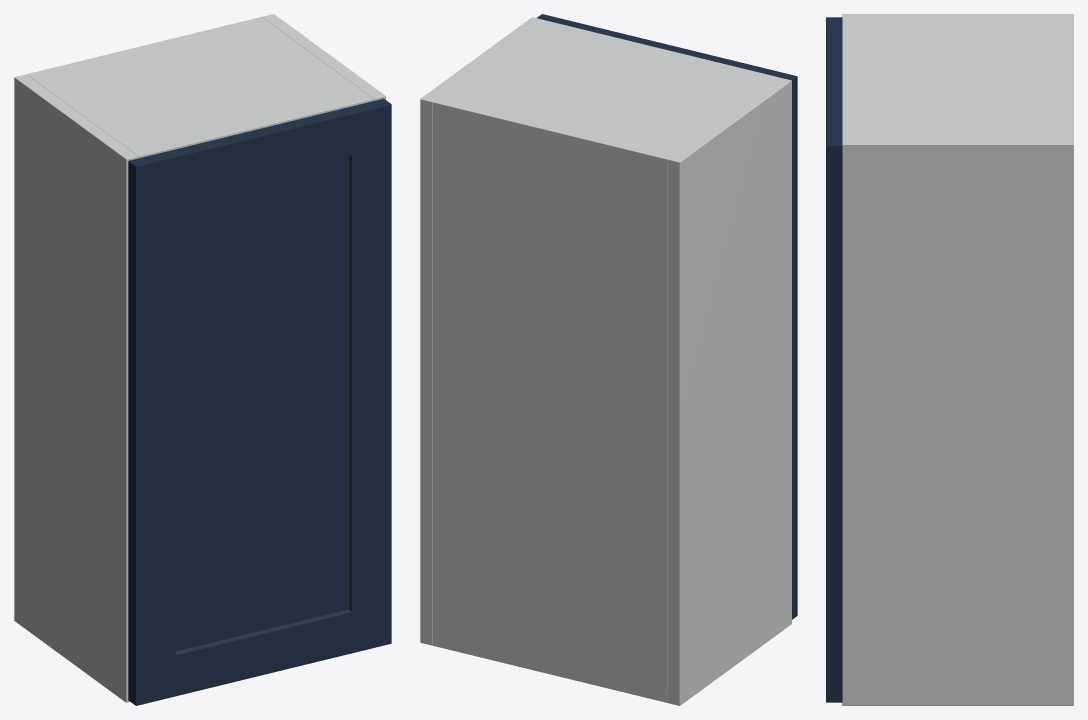
File: oppein-ply-bss-w1530.glb
3 renders of one model, left to right at view 1: azimuth 30°, elevation 25°; view 2: azimuth 150°, elevation 25°; view 3: azimuth 270°, elevation 25°, orthographic. The views are drawn at different scales.
Visible parts, largest first — view 1: Door, Cabinet side, Cabinet top, Cabinet side.001, Cabinet back; view 2: Cabinet back, Cabinet side, Cabinet top, Cabinet side.001, Door, Cabinet bottom; view 3: Cabinet side.001, Cabinet top, Door, Cabinet side, Cabinet back.
Part boxes in pixels (left/top/right/bottom): Door: left=128, top=98, right=391, bottom=705; Cabinet side: left=14, top=74, right=138, bottom=702; Cabinet top: left=27, top=20, right=373, bottom=158; Cabinet side.001: left=262, top=14, right=385, bottom=100; Cabinet back: left=27, top=17, right=264, bottom=77; Cabinet back: left=432, top=99, right=670, bottom=702; Cabinet side: left=667, top=77, right=791, bottom=705; Cabinet top: left=432, top=20, right=779, bottom=171; Cabinet side.001: left=420, top=17, right=543, bottom=645; Door: left=537, top=14, right=797, bottom=619; Cabinet bottom: left=433, top=644, right=667, bottom=702; Cabinet side.001: left=842, top=138, right=1073, bottom=705; Cabinet top: left=842, top=20, right=1073, bottom=138; Door: left=826, top=17, right=842, bottom=702; Cabinet side: left=842, top=14, right=1073, bottom=20; Cabinet back: left=1064, top=20, right=1073, bottom=138.
Size of the model in its own units: 0.381 by 0.762 by 0.3048.
